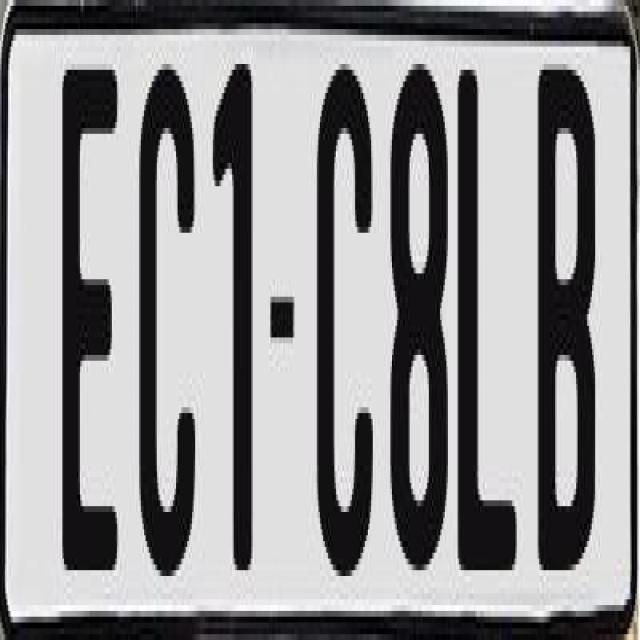1: (212, 46, 262, 552)
8: (391, 58, 452, 594)
B: (538, 58, 602, 582)
C: (315, 63, 378, 600), (134, 46, 192, 594)
E: (58, 52, 112, 564)
L: (456, 52, 517, 570)
